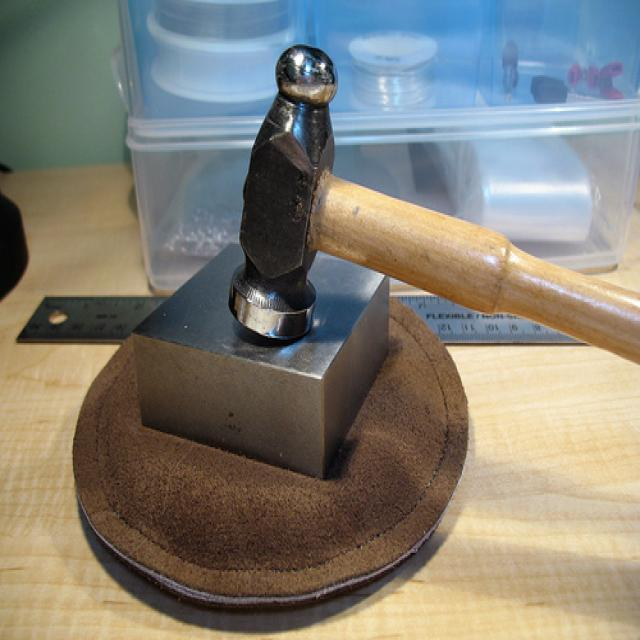hammer: (220, 41, 630, 412)
